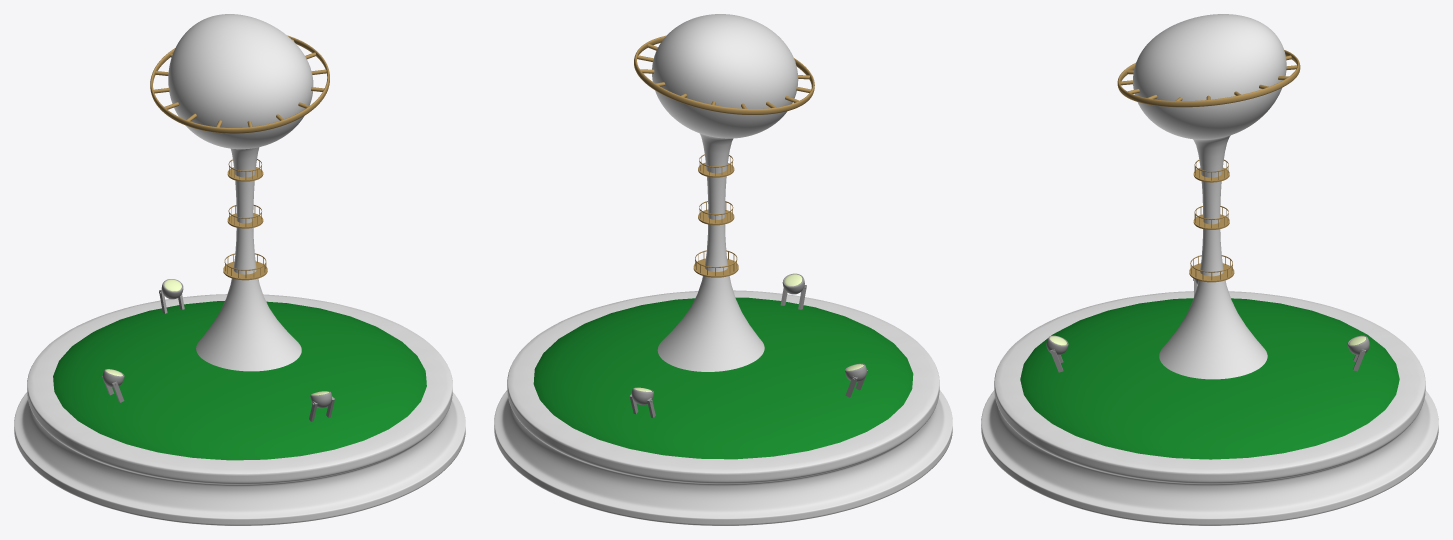
Rendered from CartoonWaterTowerr.fbx.
3 views of the same model, side by side, from view 1: azimuth 30°, elevation 25°; view 2: azimuth 150°, elevation 25°; view 3: azimuth 270°, elevation 25° (orthographic).
Parts seen in each view (by area): view 1: Sphere.003, Cylinder, Sphere, Sphere.001, Cylinder.003; view 2: Sphere.003, Cylinder, Sphere, Sphere.001, Cylinder.003; view 3: Sphere.003, Cylinder, Sphere, Sphere.001, Cylinder.003.
Part boxes in pixels (x1,y1,x2,y2): Sphere.003: (53, 301, 426, 460); Cylinder: (14, 294, 465, 525); Sphere: (168, 14, 313, 371); Sphere.001: (150, 35, 329, 133); Cylinder.003: (223, 253, 267, 280); Sphere.003: (533, 297, 913, 459); Cylinder: (494, 290, 952, 525); Sphere: (652, 14, 798, 371); Sphere.001: (634, 35, 814, 114); Cylinder.003: (693, 250, 738, 277); Sphere.003: (1020, 298, 1399, 459); Cylinder: (981, 291, 1438, 525); Sphere: (1133, 14, 1286, 379); Sphere.001: (1117, 50, 1300, 107); Cylinder.003: (1189, 255, 1234, 282).
Size of the model in its own units: 761 by 752 by 761.
